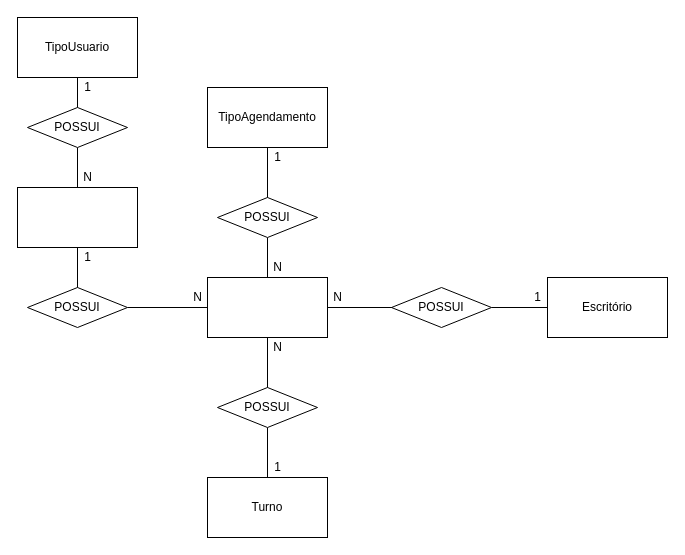
The diagram is 685 pixels wide and 555 high, and some of its shapes have lost their labels. Each missing label, with the centre of its shape:
Agendamento: the point at 267,307
Usuário: the point at 77,217
